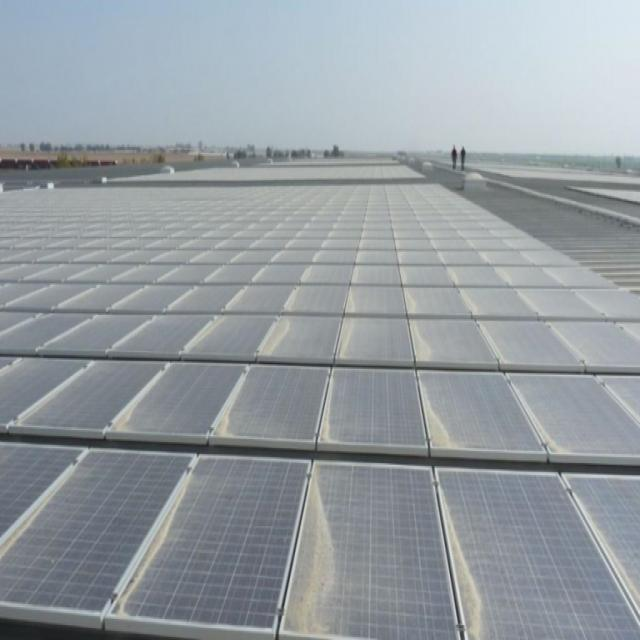dust-solar-panel: (0, 181, 640, 640)
